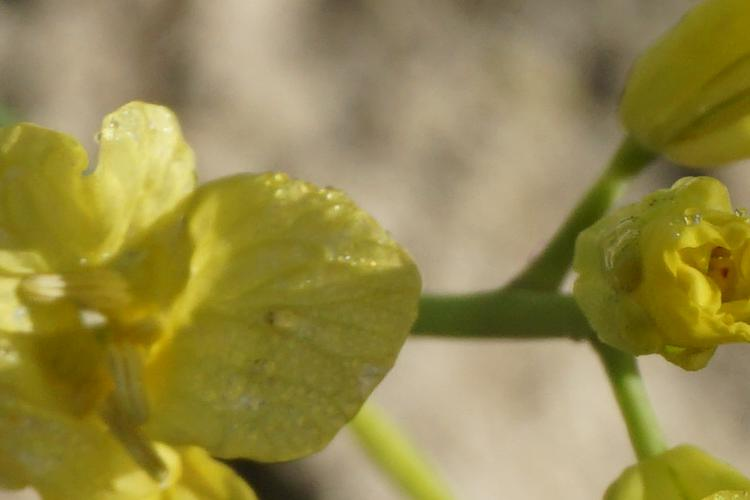yellow: (3, 110, 397, 490), (577, 168, 746, 379), (626, 22, 746, 172), (613, 415, 748, 498)
